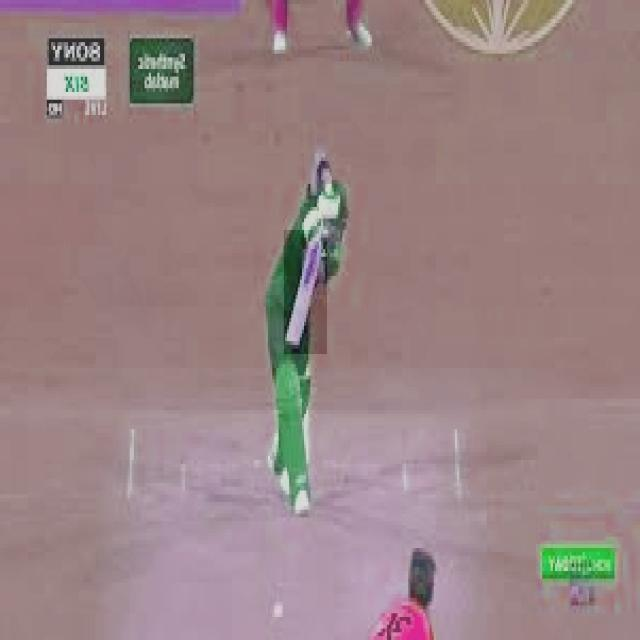bat: (282, 226, 328, 357)
toe: (279, 339, 306, 354)
